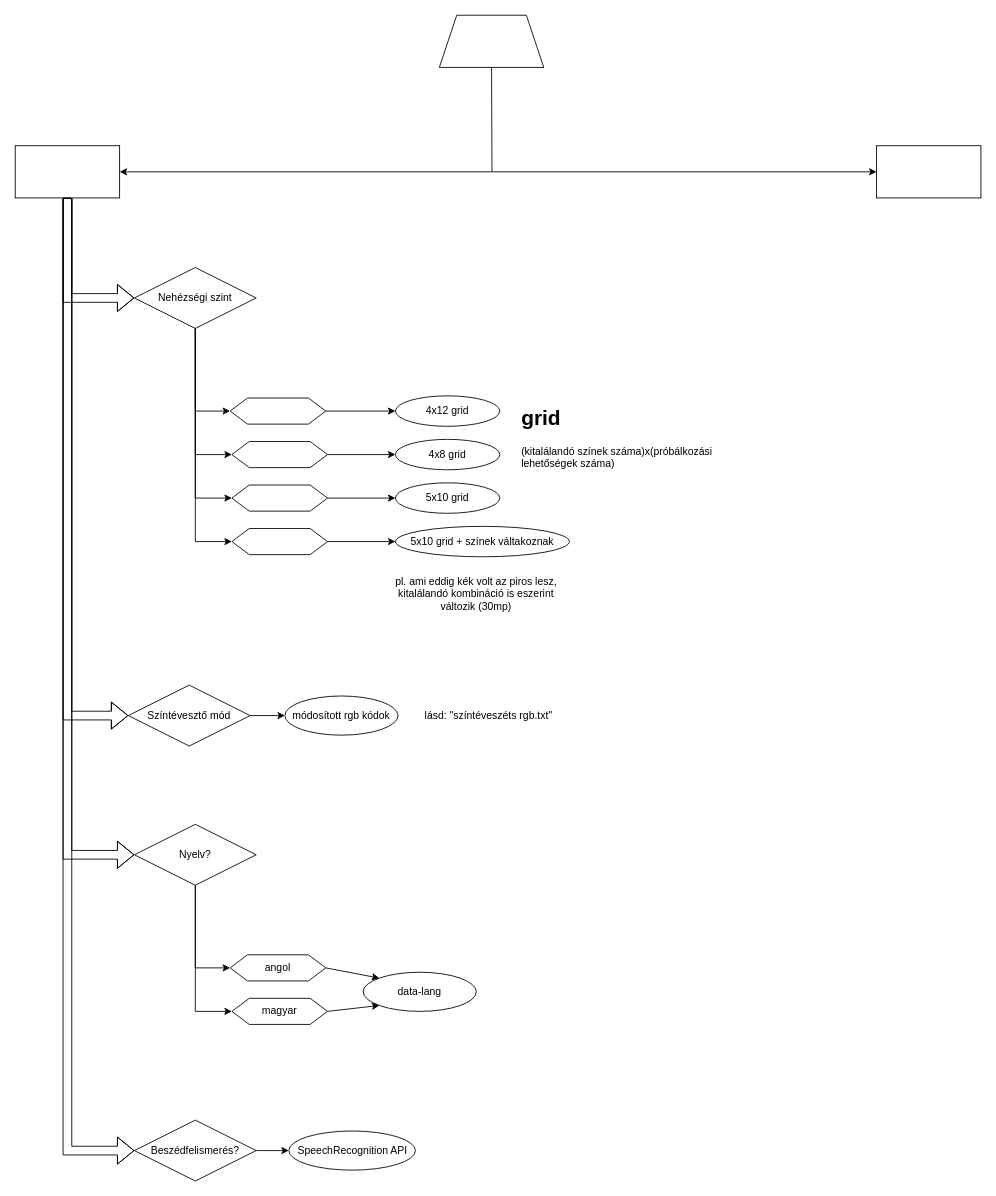
Image size: 996x1196. Some labels were removed from this diagram. Here are the shapes that lost their labels. From the top down, the centre of each, then its label:
At pixel 491 40: "Színözön".
At pixel 67 171: "Beállítások".
At pixel 277 410: "standard".
At pixel 279 454: "közepes".
At pixel 279 497: "nehéz".
At pixel 279 541: "extrém".
